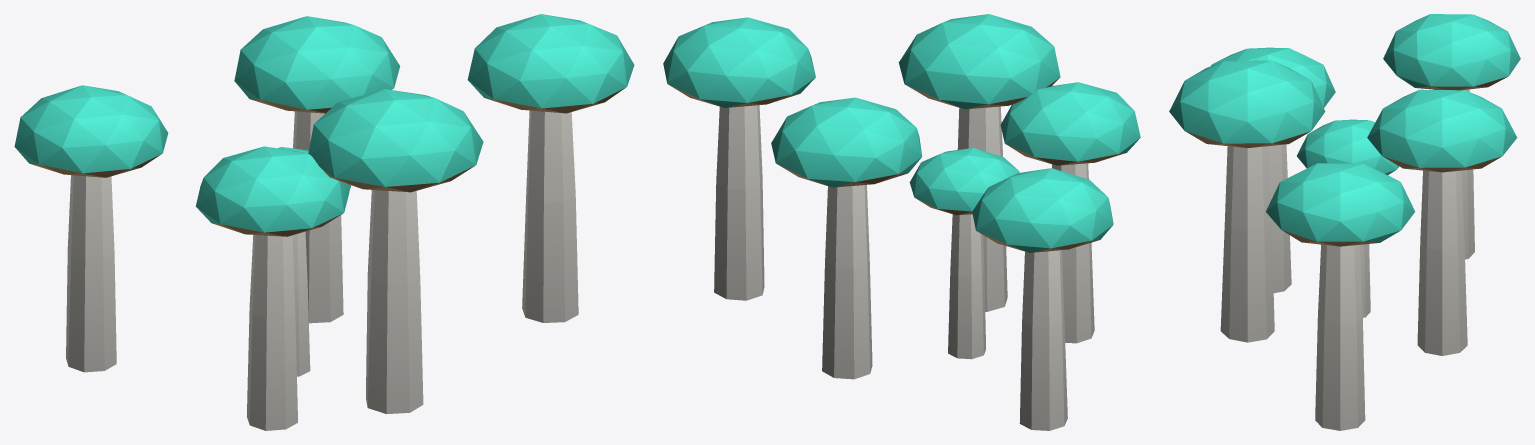
Rendered from mushroom_glow_01.fbx.
3 views of the same model, side by side, from view 1: azimuth 30°, elevation 25°; view 2: azimuth 150°, elevation 25°; view 3: azimuth 270°, elevation 25° (orthographic). The views are drawn at different scales.
Visible parts, largest first — view 1: mushroom_glow_01_LOD0; view 2: mushroom_glow_01_LOD0; view 3: mushroom_glow_01_LOD0.
Boxes of the visible parts, x1=… form: mushroom_glow_01_LOD0: x1=14, y1=14, x2=634, y2=430; mushroom_glow_01_LOD0: x1=663, y1=14, x2=1140, y2=430; mushroom_glow_01_LOD0: x1=1169, y1=14, x2=1520, y2=430.
Size of what is drawn, in the model's own units: 0.6207 by 0.3366 by 0.4084.
Materials: 1 (1 with a texture image).
